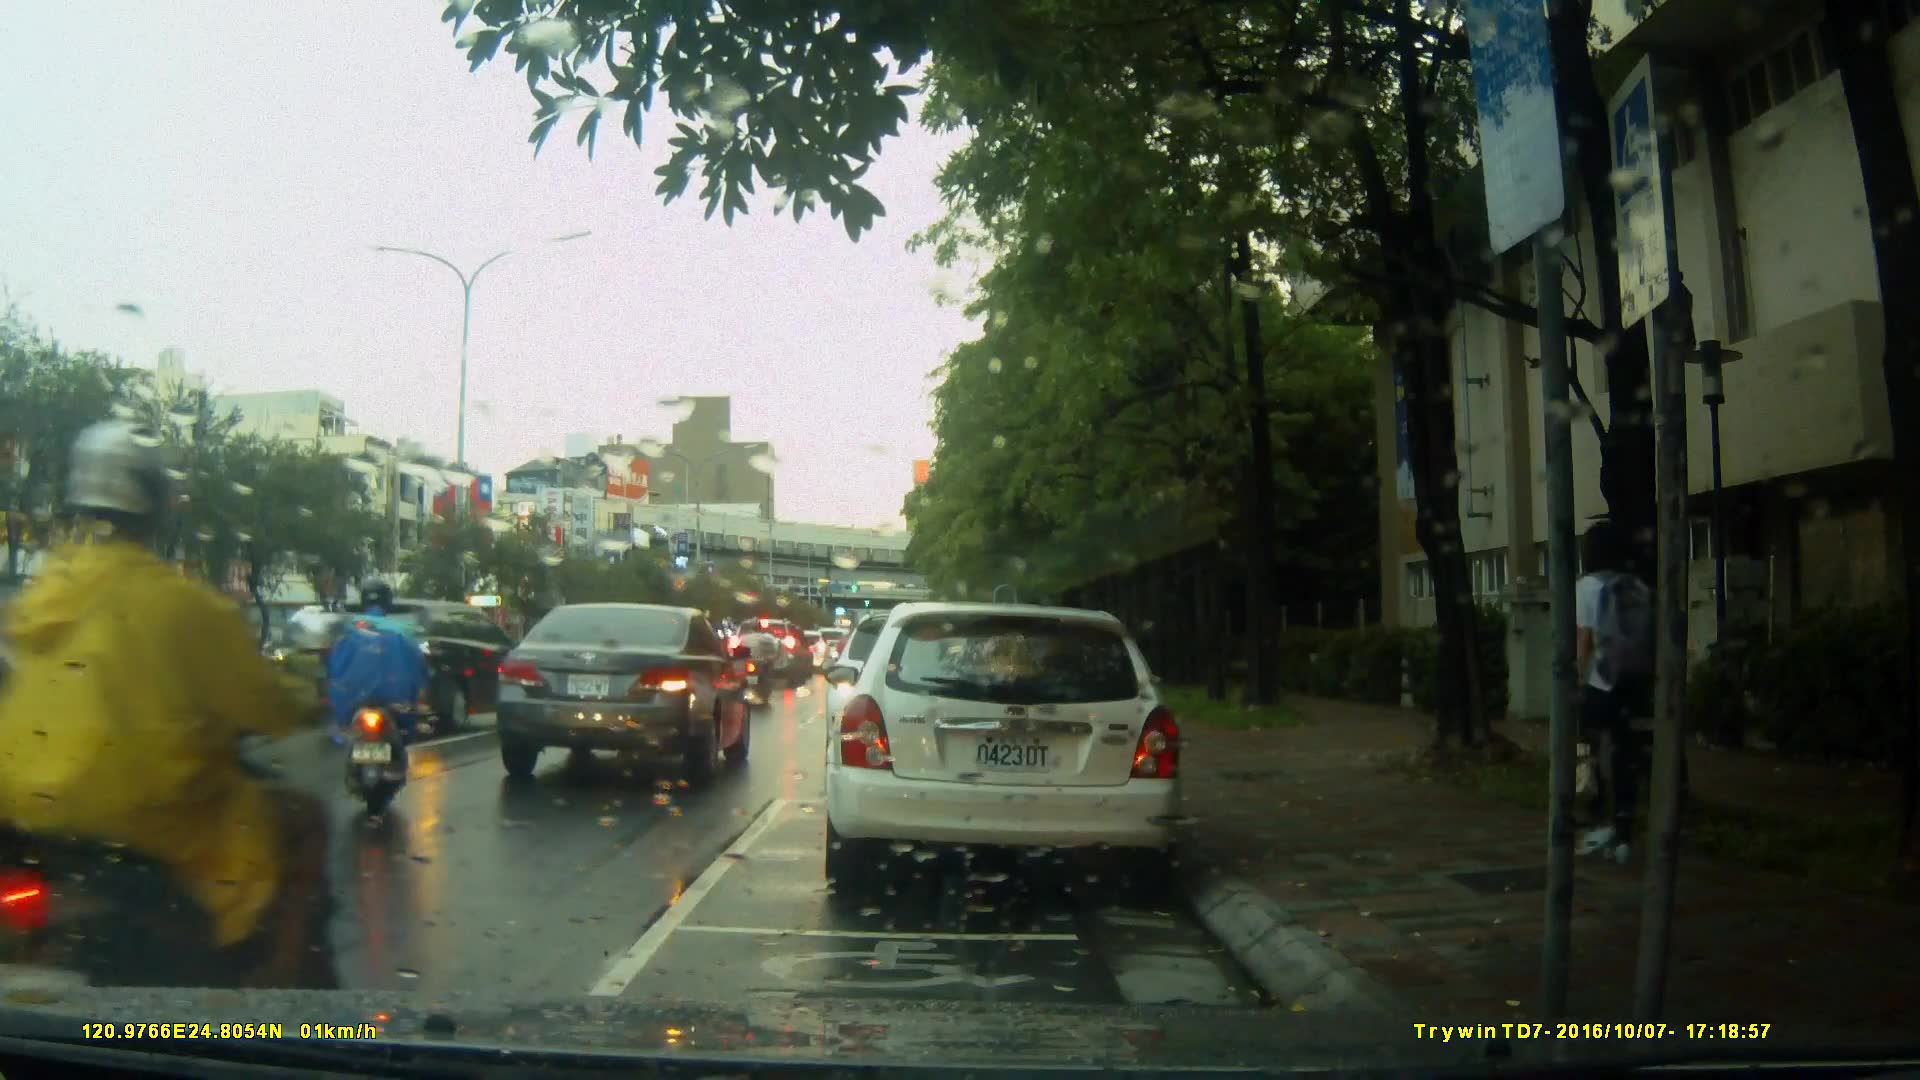pedestrian: (1539, 518, 1658, 868)
rider: (15, 405, 308, 1060), (338, 580, 434, 813), (738, 617, 774, 702)
vehicle: (1, 544, 279, 987), (820, 602, 1188, 898), (494, 601, 756, 786), (319, 597, 534, 737), (732, 619, 813, 690), (134, 634, 239, 689)
